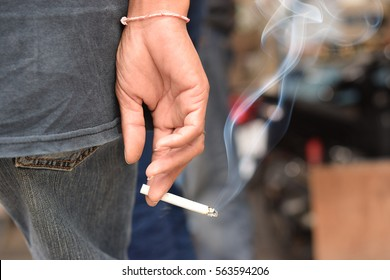cigarette: (138, 181, 220, 220)
